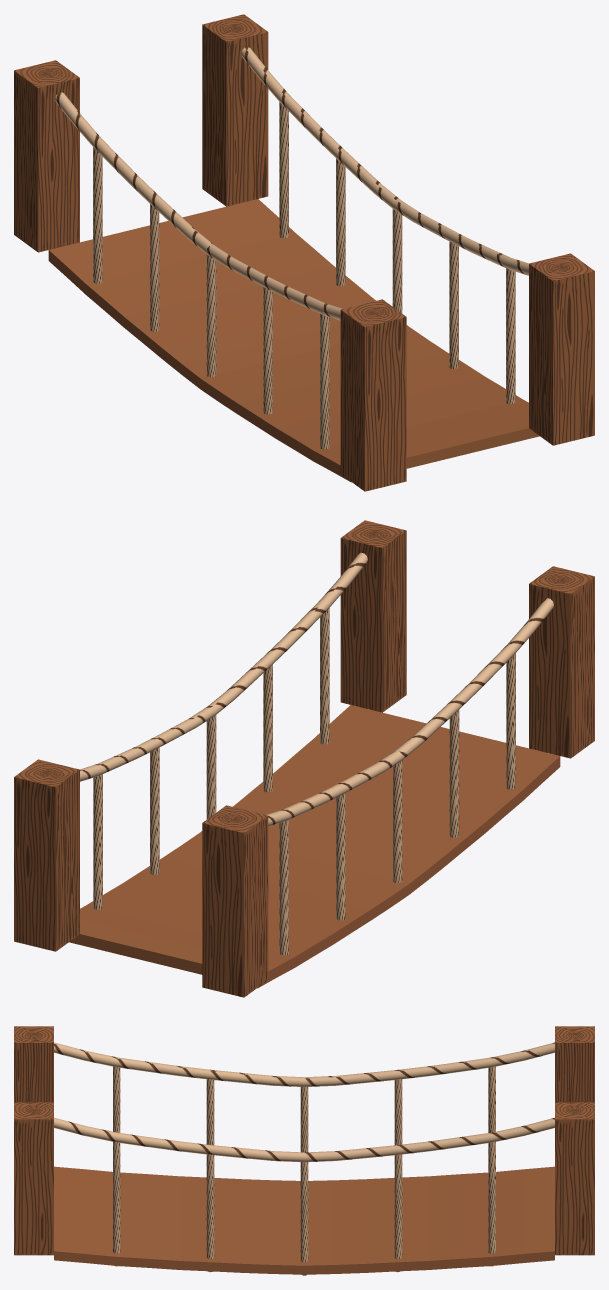
The model's file is bridge2.fbx.
3 views of the same model, one above another, from view 1: azimuth 30°, elevation 25°; view 2: azimuth 150°, elevation 25°; view 3: azimuth 270°, elevation 25° (orthographic). The views are drawn at different scales.
Visible parts, largest first — view 1: Floor.001, Floor.002, PoleRB, PoleLB, PoleLF, PoleRF, RopeBR.002, RopeBR.003, RopeBR.004, RopeBR.001, RopeSR5.001, RopeSR5 (+8 smaller); view 2: Floor.002, Floor.001, PoleRF, PoleLF, PoleLB, PoleRB, RopeBR.001, RopeBR.004, RopeBR.003, RopeBR.002, RopeSR4, RopeSR1 (+8 smaller); view 3: Floor.002, Floor.001, PoleLB, PoleLF, PoleRB, PoleRF, RopeBR.002, RopeBR.001, RopeBR.004, RopeBR.003, RopeSR2.001, RopeSR4.001 (+8 smaller).
Boxes of the visible parts, <box> form: Floor.001: <box>48,199,408,388</box>; Floor.002: <box>200,327,539,482</box>; PoleRB: <box>340,299,406,491</box>; PoleLB: <box>529,253,594,445</box>; PoleLF: <box>202,14,268,206</box>; PoleRF: <box>14,60,79,252</box>; RopeBR.002: <box>55,92,214,253</box>; RopeBR.003: <box>241,46,400,208</box>; RopeBR.004: <box>392,199,528,275</box>; RopeBR.001: <box>206,245,342,320</box>; RopeSR5.001: <box>506,268,515,403</box>; RopeSR5: <box>320,313,329,449</box>; Floor.002: <box>200,705,560,894</box>; Floor.001: <box>69,833,408,988</box>; PoleRF: <box>202,805,268,997</box>; PoleLF: <box>14,759,79,951</box>; PoleLB: <box>340,520,406,712</box>; PoleRB: <box>529,566,594,758</box>; RopeBR.001: <box>394,598,553,759</box>; RopeBR.004: <box>208,552,367,714</box>; RopeBR.003: <box>80,705,216,781</box>; RopeBR.002: <box>266,751,402,826</box>; RopeSR4: <box>449,710,459,837</box>; RopeSR1: <box>279,819,288,955</box>; Floor.002: <box>54,1166,304,1274</box>; Floor.001: <box>304,1166,554,1274</box>; PoleLB: <box>14,1102,53,1255</box>; PoleLF: <box>555,1102,594,1255</box>; PoleRB: <box>14,1026,53,1102</box>; PoleRF: <box>555,1026,594,1102</box>; RopeBR.002: <box>304,1042,554,1086</box>; RopeBR.001: <box>54,1042,304,1086</box>; RopeBR.004: <box>54,1117,304,1162</box>; RopeBR.003: <box>304,1117,554,1162</box>; RopeSR2.001: <box>394,1154,402,1258</box>; RopeSR4.001: <box>206,1154,214,1258</box>.
Bounding box in the file's own units: 439 × 363 × 1160.
